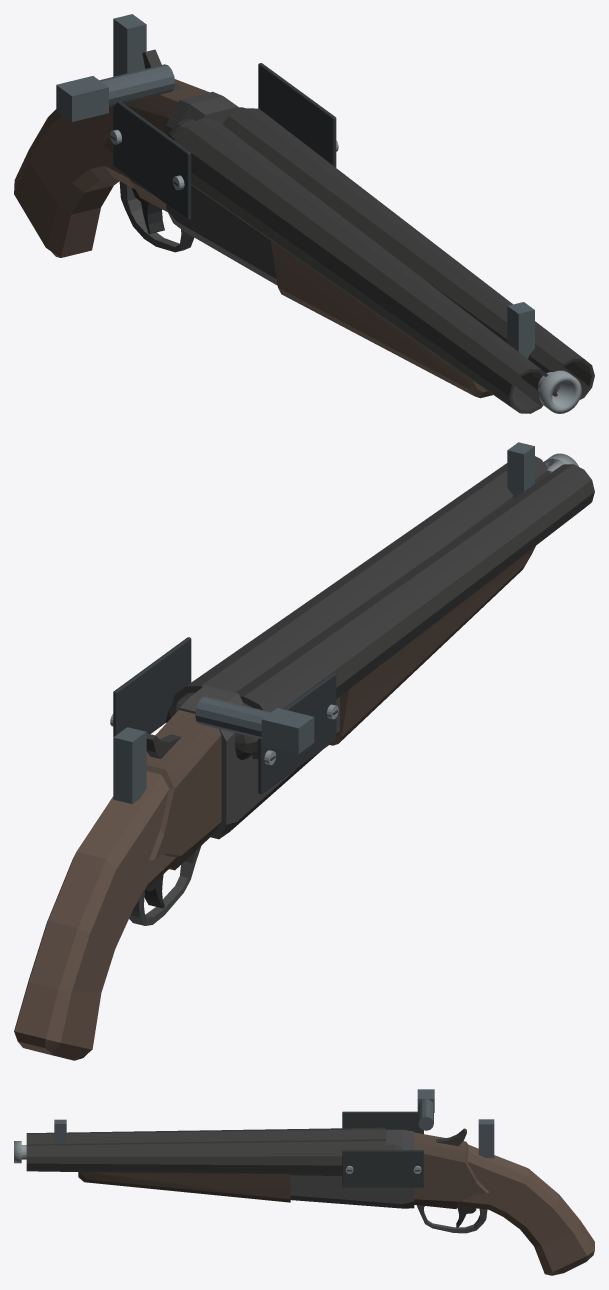
Rendered from weapon_05.glb.
3 views of the same model, one above another, from view 1: azimuth 30°, elevation 25°; view 2: azimuth 150°, elevation 25°; view 3: azimuth 270°, elevation 25° (orthographic). The views are drawn at different scales.
Parts seen in each view (by area): view 1: break_action_geometry, receiver_geometry, Recessed receiver plate.001, Recessed receiver plate, charging_handle_geometry, CC0_weapon_05_geometry, Hollow barrel crown, Front sight / hinged barrel; view 2: break_action_geometry, receiver_geometry, Recessed receiver plate, charging_handle_geometry, Recessed receiver plate.001, CC0_weapon_05_geometry, Front sight / hinged barrel; view 3: break_action_geometry, receiver_geometry, Recessed receiver plate, Recessed receiver plate.001, charging_handle_geometry, CC0_weapon_05_geometry, Front sight / hinged barrel.
Part boxes in pixels (left/top/right/bottom): break_action_geometry: left=166, top=91, right=594, bottom=413; receiver_geometry: left=14, top=49, right=209, bottom=257; Recessed receiver plate.001: left=113, top=101, right=191, bottom=219; Recessed receiver plate: left=258, top=63, right=336, bottom=167; charging_handle_geometry: left=56, top=64, right=175, bottom=121; CC0_weapon_05_geometry: left=113, top=14, right=146, bottom=76; Hollow barrel crown: left=538, top=370, right=581, bottom=413; Front sight / hinged barrel: left=507, top=302, right=534, bottom=358; break_action_geometry: left=165, top=456, right=594, bottom=839; receiver_geometry: left=14, top=710, right=221, bottom=1060; Recessed receiver plate: left=113, top=637, right=191, bottom=736; charging_handle_geometry: left=195, top=696, right=314, bottom=753; Recessed receiver plate.001: left=258, top=672, right=336, bottom=794; CC0_weapon_05_geometry: left=113, top=727, right=146, bottom=804; Front sight / hinged barrel: left=507, top=442, right=534, bottom=498; break_action_geometry: left=26, top=1127, right=414, bottom=1208; receiver_geometry: left=414, top=1128, right=594, bottom=1275; Recessed receiver plate: left=342, top=1150, right=423, bottom=1187; Recessed receiver plate.001: left=342, top=1111, right=423, bottom=1133; charging_handle_geometry: left=417, top=1089, right=434, bottom=1130; CC0_weapon_05_geometry: left=478, top=1119, right=494, bottom=1158; Front sight / hinged barrel: left=54, top=1119, right=66, bottom=1143.
Bounding box in the file's own units: 0.1472 × 0.1933 × 0.6749.
